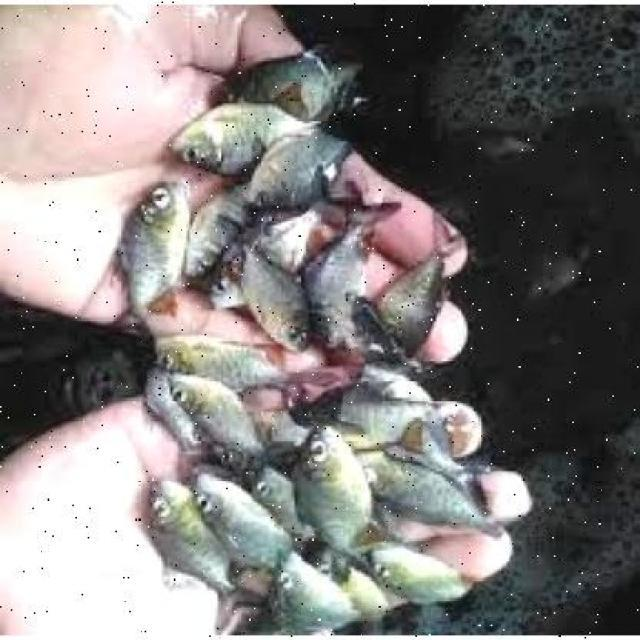ikan-pacu: (374, 444, 518, 544), (300, 201, 392, 350), (288, 419, 374, 556), (163, 93, 305, 172), (110, 178, 188, 320), (146, 471, 228, 597), (184, 470, 290, 567), (385, 223, 458, 349), (249, 119, 357, 198), (147, 370, 255, 448), (236, 244, 306, 350), (184, 178, 253, 266), (161, 332, 267, 388), (263, 554, 334, 634)
